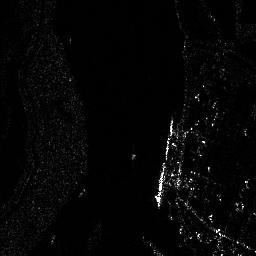ship: (155, 162, 166, 208), (164, 117, 175, 159)
